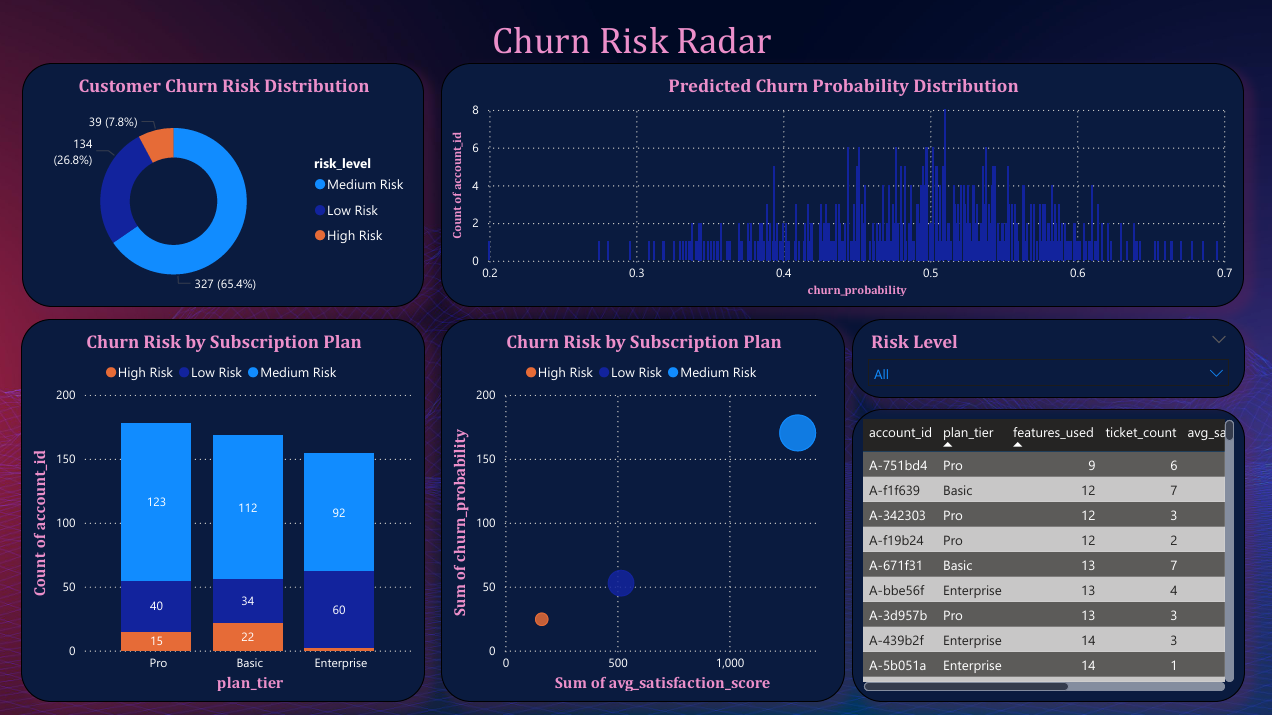

Layout of this report page (visuals, bound fields, positions):
{"tool":"powerbi","page":{"name":"Churn Risk Radar","canvas":[1280,720],"ordinal":3},"visuals":[{"type":"donutChart","title":"Customer Churn Risk Distribution","fields":{"Y":["CountNonNull(account_feature_summary.account_id)"],"Category":["account_feature_summary.risk_level"]},"box":[23.7,64.4,402.2,243.2],"z":0},{"type":"clusteredColumnChart","title":"Predicted Churn Probability Distribution","fields":{"Category":["account_feature_summary.churn_probability"],"Y":["CountNonNull(account_feature_summary.account_id)"]},"box":[443,64.4,803.1,243.2],"z":1000},{"type":"columnChart","title":"Churn Risk by Subscription Plan","fields":{"Y":["CountNonNull(account_feature_summary.account_id)"],"Category":["account_feature_summary.plan_tier"],"Series":["account_feature_summary.risk_level"]},"box":[23.3,320.2,403.7,382.8],"z":2000},{"type":"scatterChart","title":"Churn Risk by Subscription Plan","fields":{"Series":["account_feature_summary.risk_level"],"X":["Sum(account_feature_summary.avg_satisfaction_score)"],"Y":["Sum(account_feature_summary.churn_probability)"],"Size":["Sum(account_feature_summary.ticket_count)"]},"box":[442.9,320.2,403.7,382.8],"z":3000},{"type":"tableEx","title":"Churn Risk by Subscription Plan","fields":{"Values":["account_feature_summary.account_id","account_feature_summary.plan_tier","account_feature_summary.features_used","account_feature_summary.ticket_count","account_feature_summary.avg_satisfaction_score","account_feature_summary.churn_probability","account_feature_summary.risk_level"]},"box":[854,409.8,392.6,293.3],"z":4000},{"type":"slicer","title":"Churn Risk by Subscription Plan","fields":{"Values":["account_feature_summary.risk_level"]},"box":[854,320.2,392.6,78.5],"z":5000},{"type":"textbox","box":[24.1,13.9,1219.5,58.3],"z":6000}]}

Visuals, with their boxes in screenshot pixels (x1, y1, x2, y2), scaled from the page's 1280x720 canvas onto the 1272x715 screenshot:
"Customer Churn Risk Distribution" donutChart: locate(24, 64, 423, 305)
"Predicted Churn Probability Distribution" clusteredColumnChart: locate(440, 64, 1238, 305)
"Churn Risk by Subscription Plan" columnChart: locate(23, 318, 424, 698)
"Churn Risk by Subscription Plan" scatterChart: locate(440, 318, 841, 698)
"Churn Risk by Subscription Plan" tableEx: locate(849, 407, 1239, 698)
"Churn Risk by Subscription Plan" slicer: locate(849, 318, 1239, 396)
textbox: locate(24, 14, 1236, 72)
